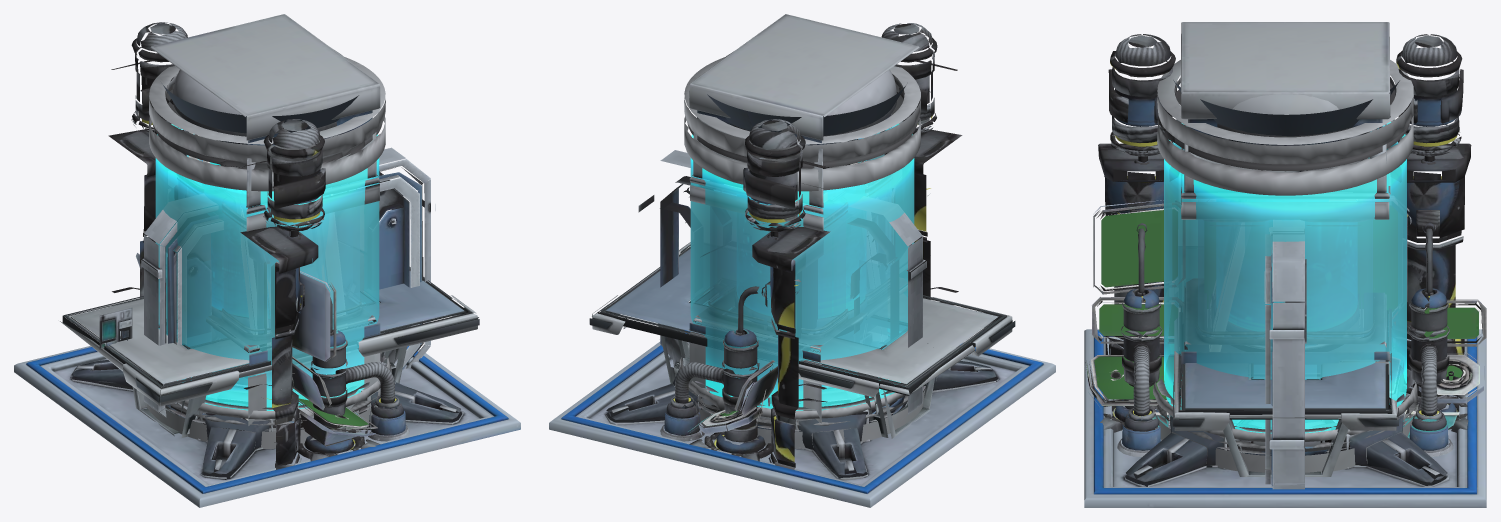
Rendered from scifi-lab-props.glb.
The picture shows the model from 3 angles, left to right: view 1: azimuth 30°, elevation 25°; view 2: azimuth 150°, elevation 25°; view 3: azimuth 270°, elevation 25°; orthographic projection. The views are drawn at different scales.
Visible parts, largest first — view 1: sci_jar_duz_słoik_szybka, sci_cabinet_szafka_body, sci_vat_rura_glowna_podloga, sci_airlock_drzwi, sci_pipe_rura_tylna, sci_jar_duzy_słoik, sci_table_stolik, sci_vat_rura_główna_baza, sci_console_Panel_sterowania, sci_pipe_rura_przod, sci_cabinet_szafka_szybka, sci_vat_rura_glowna_szybka; view 2: sci_jar_duz_słoik_szybka, sci_cabinet_szafka_body, sci_vat_rura_glowna_podloga, sci_table_stolik, sci_pipe_rura_tylna, sci_jar_duzy_słoik, sci_vat_rura_główna_baza, sci_airlock_drzwi, sci_pipe_rura_przod, sci_console_Panel_sterowania, sci_cabinet_szafka_szybka, sci_vat_rura_glowna_szybka; view 3: sci_jar_duz_słoik_szybka, sci_cabinet_szafka_body, sci_pipe_rura_tylna, sci_jar_duzy_słoik, sci_vat_rura_glowna_podloga, sci_console_Panel_sterowania, sci_table_stolik, sci_pipe_rura_przod, sci_vat_rura_główna_baza, sci_airlock_drzwi.
Part boxes in pixels (bbox=[...]): sci_jar_duz_słoik_szybka: bbox=[155, 124, 379, 410]; sci_cabinet_szafka_body: bbox=[150, 14, 380, 431]; sci_vat_rura_glowna_podloga: bbox=[14, 346, 520, 507]; sci_airlock_drzwi: bbox=[99, 147, 435, 417]; sci_pipe_rura_tylna: bbox=[108, 22, 325, 469]; sci_jar_duzy_słoik: bbox=[147, 48, 391, 448]; sci_table_stolik: bbox=[60, 267, 479, 437]; sci_vat_rura_główna_baza: bbox=[70, 85, 463, 478]; sci_console_Panel_sterowania: bbox=[136, 185, 377, 446]; sci_pipe_rura_przod: bbox=[297, 297, 409, 461]; sci_cabinet_szafka_szybka: bbox=[179, 160, 359, 302]; sci_vat_rura_glowna_szybka: bbox=[201, 160, 329, 309]; sci_jar_duz_słoik_szybka: bbox=[690, 123, 914, 410]; sci_cabinet_szafka_body: bbox=[688, 14, 919, 431]; sci_vat_rura_glowna_podloga: bbox=[549, 330, 1055, 507]; sci_table_stolik: bbox=[589, 242, 1015, 438]; sci_pipe_rura_tylna: bbox=[743, 23, 962, 469]; sci_jar_duzy_słoik: bbox=[678, 51, 925, 448]; sci_vat_rura_główna_baza: bbox=[604, 86, 998, 480]; sci_airlock_drzwi: bbox=[638, 150, 927, 418]; sci_pipe_rura_przod: bbox=[660, 286, 773, 461]; sci_console_Panel_sterowania: bbox=[688, 188, 894, 433]; sci_cabinet_szafka_szybka: bbox=[710, 160, 890, 302]; sci_vat_rura_glowna_szybka: bbox=[737, 138, 866, 310]; sci_jar_duz_słoik_szybka: bbox=[1164, 122, 1406, 433]; sci_cabinet_szafka_body: bbox=[1180, 22, 1390, 446]; sci_pipe_rura_tylna: bbox=[1098, 34, 1471, 395]; sci_jar_duzy_słoik: bbox=[1150, 60, 1420, 472]; sci_vat_rura_glowna_podloga: bbox=[1084, 329, 1486, 507]; sci_console_Panel_sterowania: bbox=[1085, 196, 1486, 438]; sci_table_stolik: bbox=[1172, 305, 1398, 476]; sci_pipe_rura_przod: bbox=[1100, 222, 1468, 457]; sci_vat_rura_główna_baza: bbox=[1124, 80, 1449, 486]; sci_airlock_drzwi: bbox=[1264, 220, 1306, 489].
Bounding box in the file's own units: 1 × 1 × 1.
14 materials, 10 textured.
